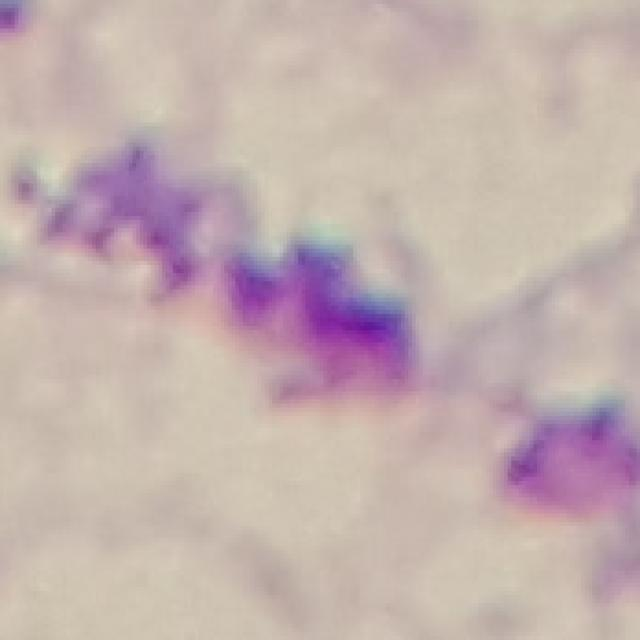non-sperm: (2, 137, 422, 390)
